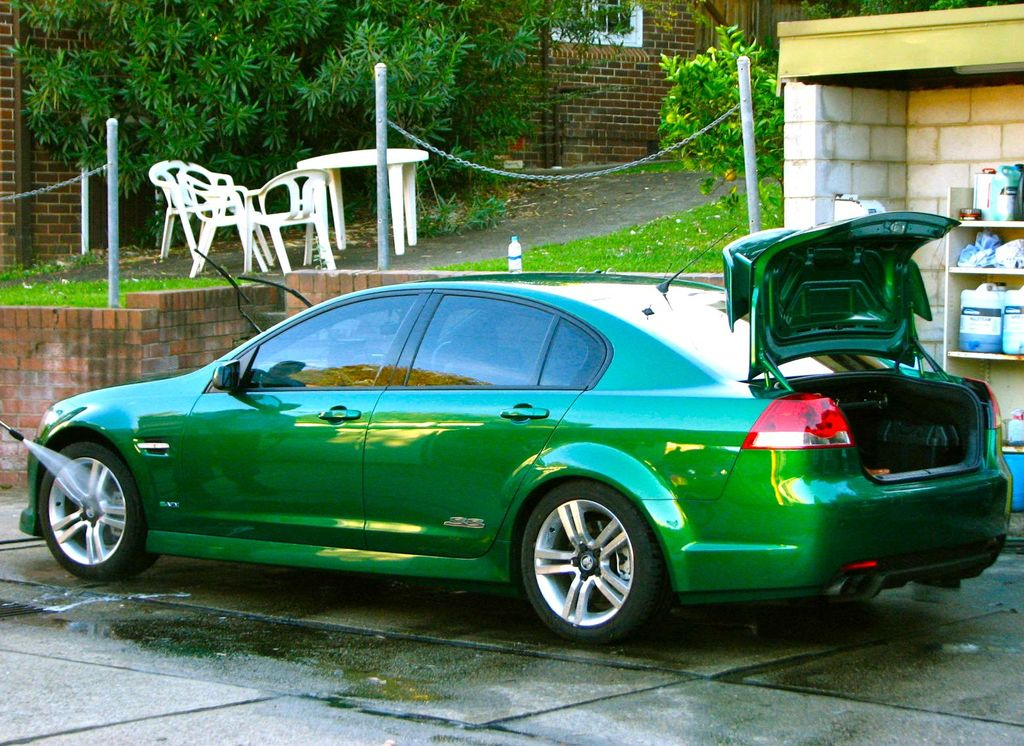cars: (15, 266, 1003, 659)
